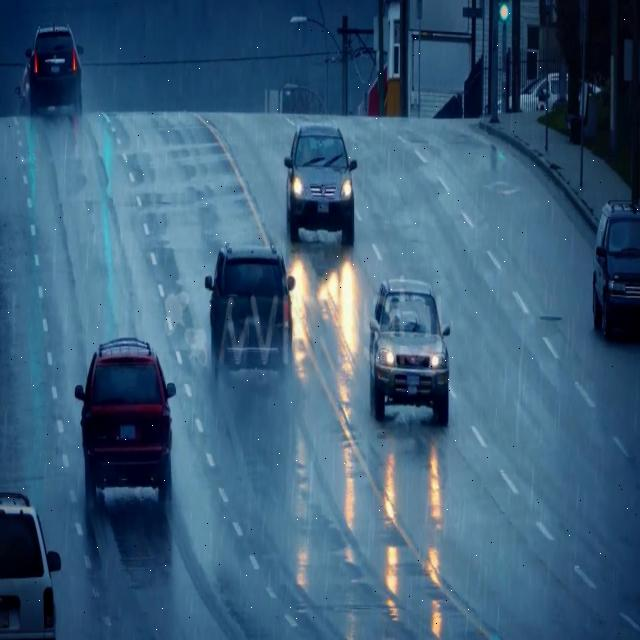Car: (76, 336, 176, 504), (206, 242, 296, 383), (369, 276, 453, 422), (284, 122, 358, 247), (0, 492, 62, 640), (592, 200, 639, 338), (22, 23, 84, 121), (516, 72, 574, 114), (564, 77, 605, 125)
